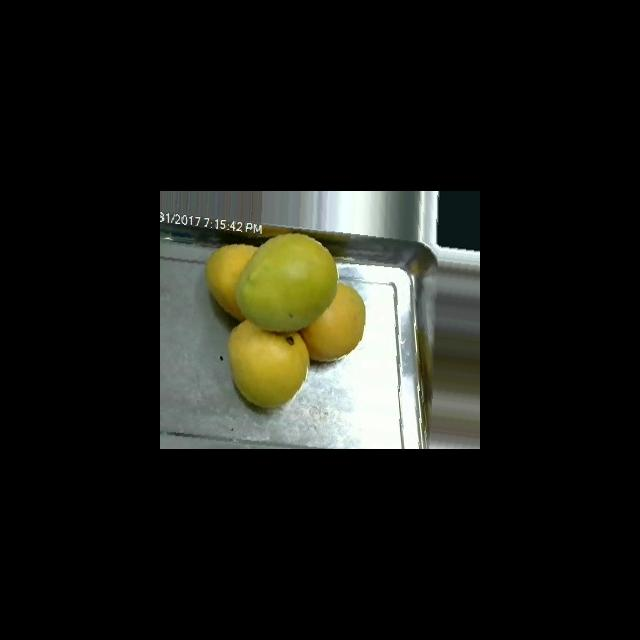Mango: (235, 232, 338, 332), (228, 319, 309, 408), (300, 281, 365, 362), (205, 243, 259, 321)
